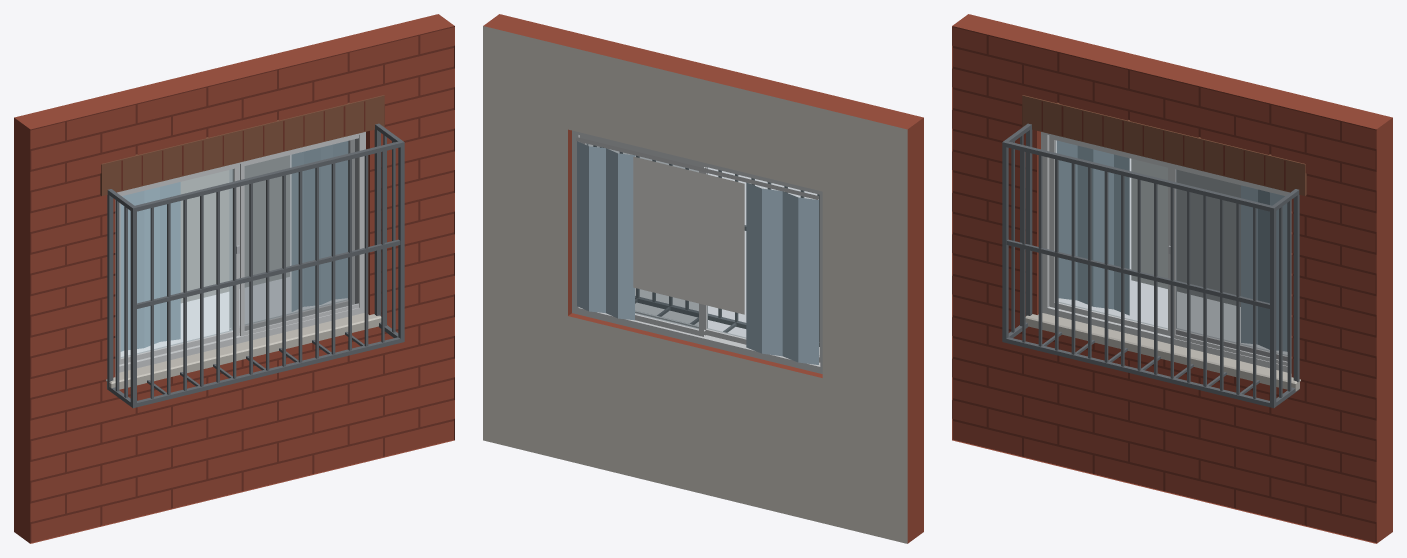
Rendered from SC_Bld_Villa_Wall_Brick_Window_Cage_3m.gltf.
The picture shows the model from 3 angles, left to right: view 1: azimuth 30°, elevation 25°; view 2: azimuth 150°, elevation 25°; view 3: azimuth 330°, elevation 25°; orthographic projection.
Visible parts, largest first — view 1: SC_Bld_Villa_Wall_Brick_Window_Cage_3m; view 2: SC_Bld_Villa_Wall_Brick_Window_Cage_3m; view 3: SC_Bld_Villa_Wall_Brick_Window_Cage_3m.
Part boxes in pixels (bbox=[...]): SC_Bld_Villa_Wall_Brick_Window_Cage_3m: bbox=[14, 14, 454, 543]; SC_Bld_Villa_Wall_Brick_Window_Cage_3m: bbox=[483, 14, 923, 543]; SC_Bld_Villa_Wall_Brick_Window_Cage_3m: bbox=[952, 14, 1392, 543].
Size of the model in its own units: 3 by 2.8 by 0.52.
Materials: 2 (2 with a texture image).
